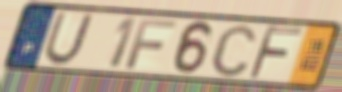1: (106, 15, 139, 71)
6: (171, 18, 216, 77)
C: (208, 22, 259, 79)
F: (245, 23, 305, 82), (123, 17, 180, 71)
U: (41, 11, 97, 68)
